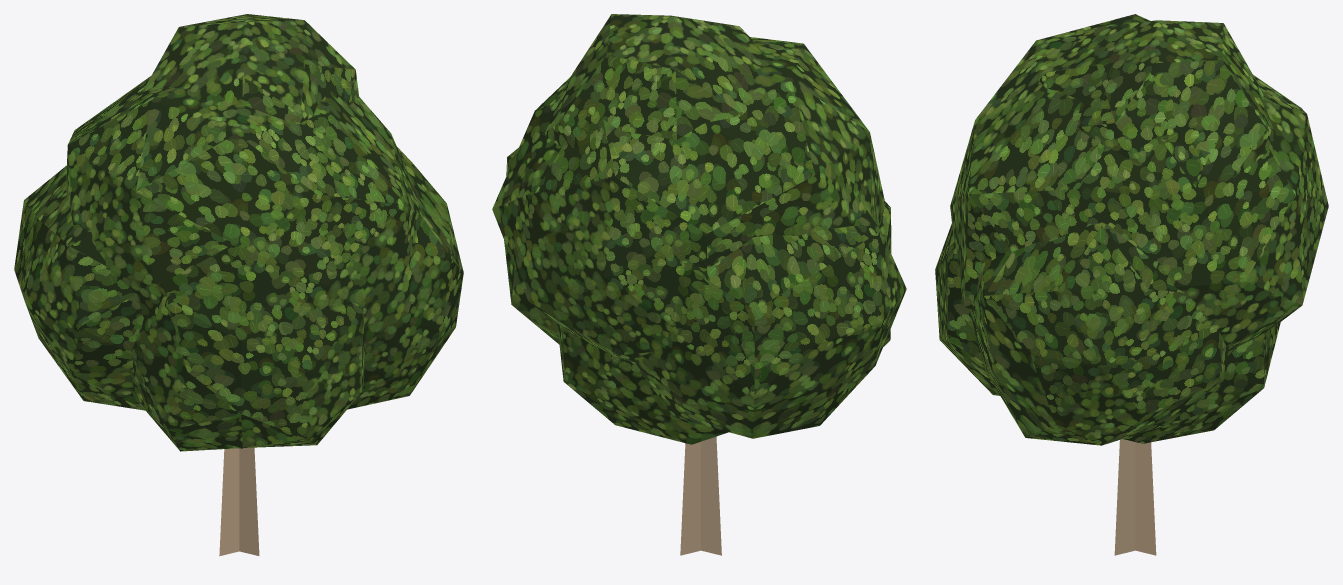
File: low_poly_tree.glb
The picture shows the model from 3 angles, left to right: view 1: azimuth 30°, elevation 25°; view 2: azimuth 150°, elevation 25°; view 3: azimuth 270°, elevation 25°; orthographic projection. The views are drawn at different scales.
Visible parts, largest first — view 1: LowPolyTree2; view 2: LowPolyTree2; view 3: LowPolyTree2.
Boxes of the visible parts, <box> form: LowPolyTree2: <box>14,14,463,556</box>; LowPolyTree2: <box>492,14,906,555</box>; LowPolyTree2: <box>935,14,1328,555</box>.
Size of the model in its own units: 3.93 by 5.03 by 3.27.
Materials: 2 (1 with a texture image).
